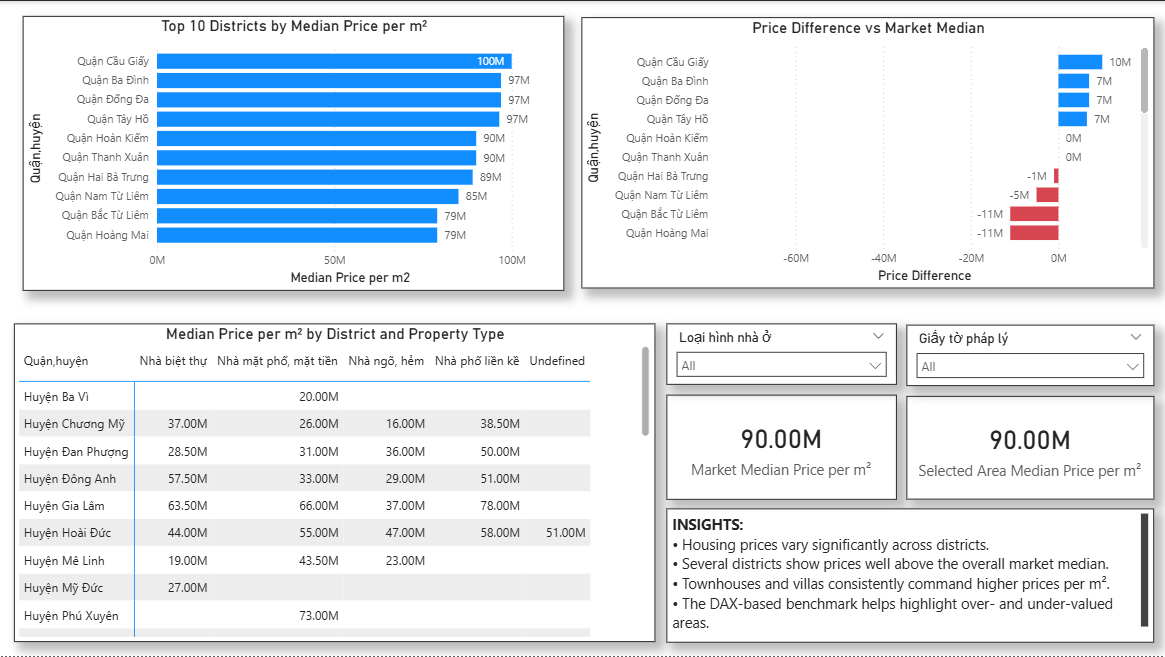

This screenshot's page, from the dashboard's own definition file:
{"tool":"powerbi","page":{"name":"Market Benchmark","canvas":[1280,720],"ordinal":2},"visuals":[{"type":"clusteredBarChart","title":"Top 10 Districts by Median Price per m²","fields":{"Category":["vw_housing_enriched.Quận,huyện"],"Y":["Measure.Median Price per m2"]},"box":[26.1,16.5,594.2,301.9],"z":0},{"type":"clusteredBarChart","title":"Price Difference vs Market Median","fields":{"Category":["vw_housing_enriched.Quận,huyện"],"Y":["Measure.Price Difference"]},"box":[639.5,17.8,628.5,297.8],"z":1000},{"type":"pivotTable","title":"Median Price per m² by District and Property Type","fields":{"Rows":["vw_housing_enriched.Quận,huyện"],"Columns":["vw_housing_enriched.Loại hình nhà ở"],"Values":["Measure.Median Price per m2"]},"box":[16.5,354,703.9,349.9],"z":1001},{"type":"card","fields":{"Values":["Measure.Overall Median Price per m2"]},"box":[732.8,432.2,252.5,115.3],"z":1002},{"type":"card","fields":{"Values":["Measure.Median Price per m2"]},"box":[996.2,433.6,271.7,113.9],"z":1003},{"type":"slicer","fields":{"Values":["vw_housing_enriched.Loại hình nhà ở"]},"box":[732.8,354,252.5,67.2],"z":1004},{"type":"slicer","fields":{"Values":["vw_housing_enriched.Giấy tờ pháp lý"]},"box":[996.2,355.4,271.7,67.2],"z":1005},{"type":"textbox","box":[732.8,557.1,535.2,146.8],"z":1006}]}

Visuals, with their boxes in screenshot pixels (x1, y1, x2, y2), scaled from the page's 1280x720 canvas onto the 1165x657 screenshot:
"Top 10 Districts by Median Price per m²" clusteredBarChart: {"left": 24, "top": 15, "right": 565, "bottom": 291}
"Price Difference vs Market Median" clusteredBarChart: {"left": 582, "top": 16, "right": 1154, "bottom": 288}
"Median Price per m² by District and Property Type" pivotTable: {"left": 15, "top": 323, "right": 656, "bottom": 642}
card - Measure.Overall Median Price per m2: {"left": 667, "top": 394, "right": 897, "bottom": 500}
card - Measure.Median Price per m2: {"left": 907, "top": 396, "right": 1154, "bottom": 500}
slicer - vw_housing_enriched.Loại hình nhà ở: {"left": 667, "top": 323, "right": 897, "bottom": 384}
slicer - vw_housing_enriched.Giấy tờ pháp lý: {"left": 907, "top": 324, "right": 1154, "bottom": 386}
textbox: {"left": 667, "top": 508, "right": 1154, "bottom": 642}
